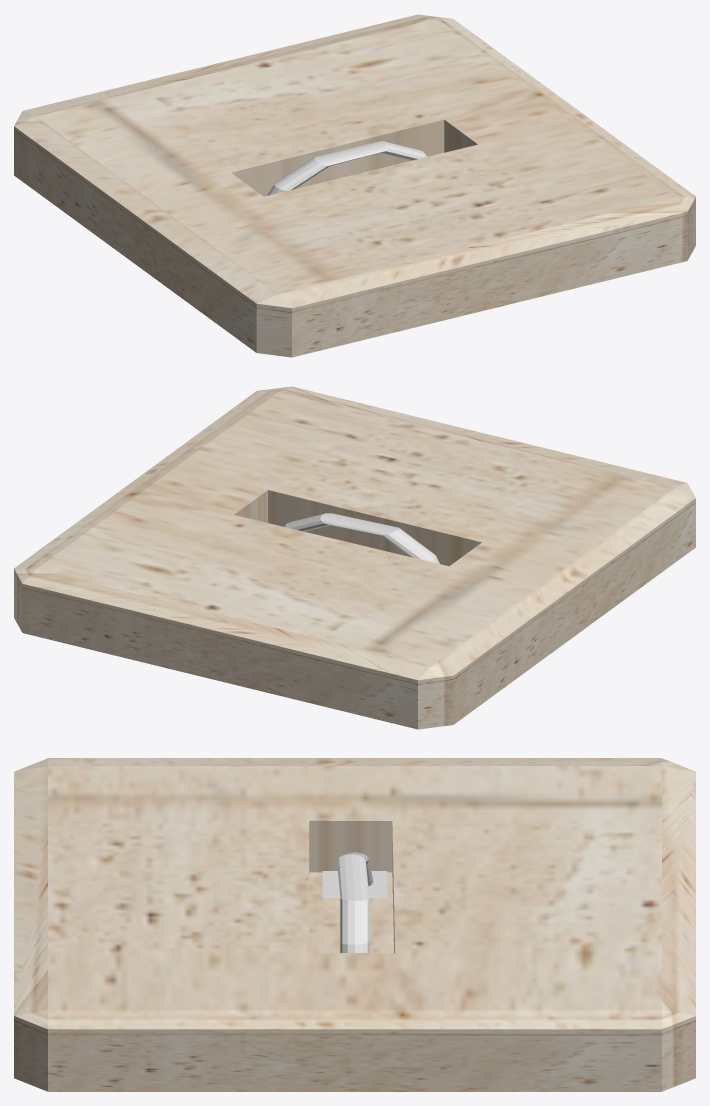
Rendered from slabkey.glb.
3 renders of one model, top to bottom at view 1: azimuth 30°, elevation 25°; view 2: azimuth 150°, elevation 25°; view 3: azimuth 270°, elevation 25°, orthographic. The views are drawn at different scales.
Visible parts, largest first — view 1: Cube, ring; view 2: Cube, ring; view 3: Cube, ring.
Part boxes in pixels (bbox=[...]): Cube: bbox=[14, 14, 695, 357]; ring: bbox=[266, 141, 427, 195]; Cube: bbox=[14, 386, 695, 729]; ring: bbox=[284, 513, 439, 563]; Cube: bbox=[14, 758, 695, 1091]; ring: bbox=[322, 852, 387, 953].
Bounding box in the file's own units: 2.36 × 0.3359 × 2.51.
Materials: 2 (1 with a texture image).
